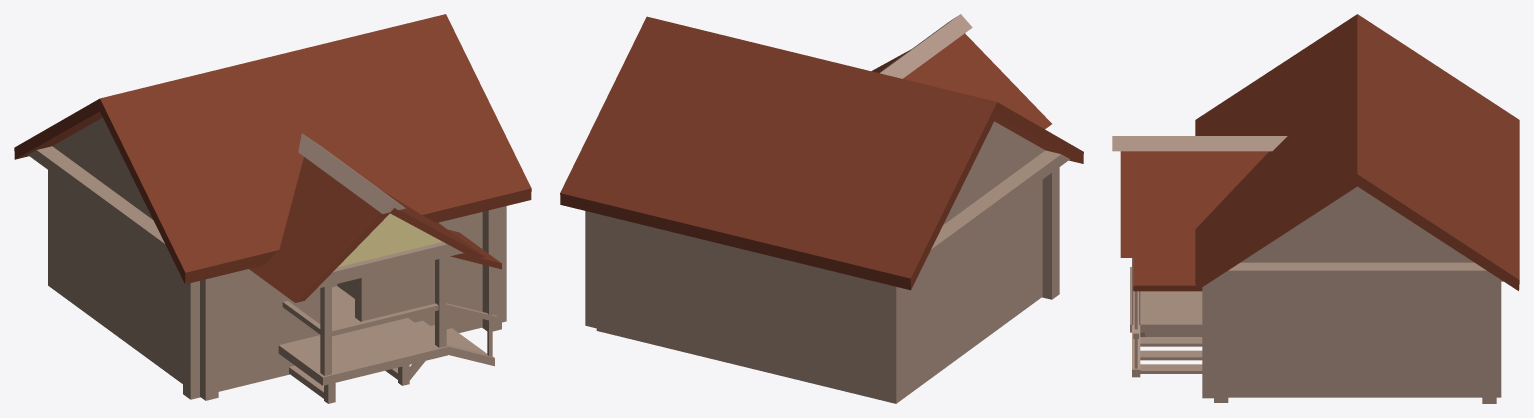
File: house111111texturing.fbx
The picture shows the model from 3 angles, left to right: view 1: azimuth 30°, elevation 25°; view 2: azimuth 150°, elevation 25°; view 3: azimuth 270°, elevation 25°; orthographic projection. The views are drawn at different scales.
Visible parts, largest first — view 1: roof, found, Gdecor; view 2: roof, found; view 3: roof, found.
Part boxes in pixels (x1,y1,x2,y2): roof: (14, 14, 531, 302); found: (28, 117, 506, 403); Gdecor: (337, 213, 442, 267); roof: (560, 16, 1083, 290); found: (585, 14, 1069, 403); roof: (1120, 14, 1519, 291); found: (1112, 136, 1503, 403).
Size of the model in its own units: 778 by 535 by 836.
